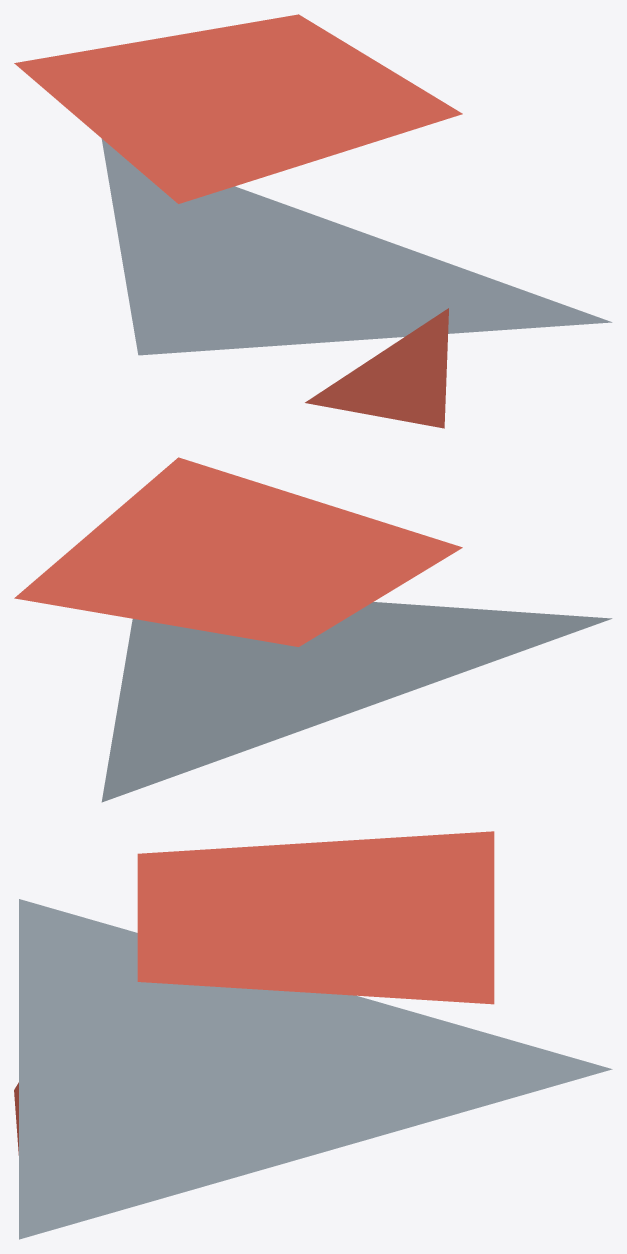
The model's file is SU_Bunker_LOD2.glb.
3 renders of one model, top to bottom at view 1: azimuth 30°, elevation 25°; view 2: azimuth 150°, elevation 25°; view 3: azimuth 270°, elevation 25°, orthographic. The views are drawn at different scales.
Parts seen in each view (by area): view 1: EntranceGate; view 2: EntranceGate; view 3: EntranceGate.
Part boxes in pixels (box(x1,y1,x2,y2)): EntranceGate: box(14, 14, 612, 428); EntranceGate: box(14, 457, 612, 802); EntranceGate: box(14, 831, 612, 1239).
Bounding box in the file's own units: 400 × 208 × 403.
